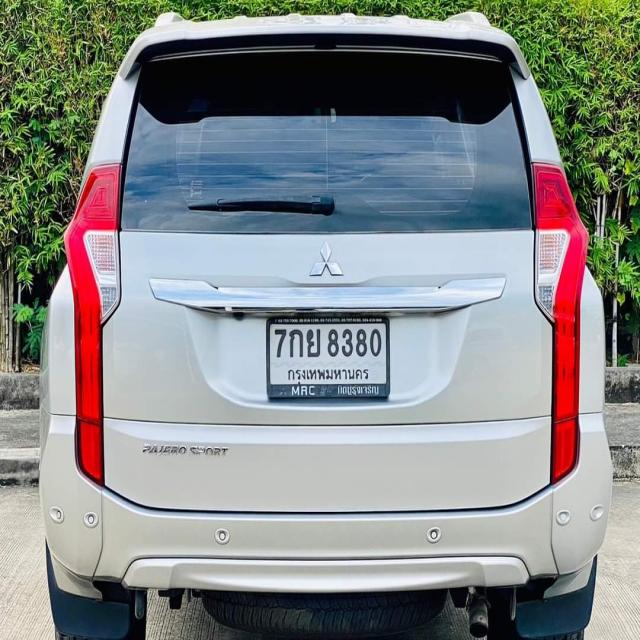license_plate: (263, 313, 392, 404)
